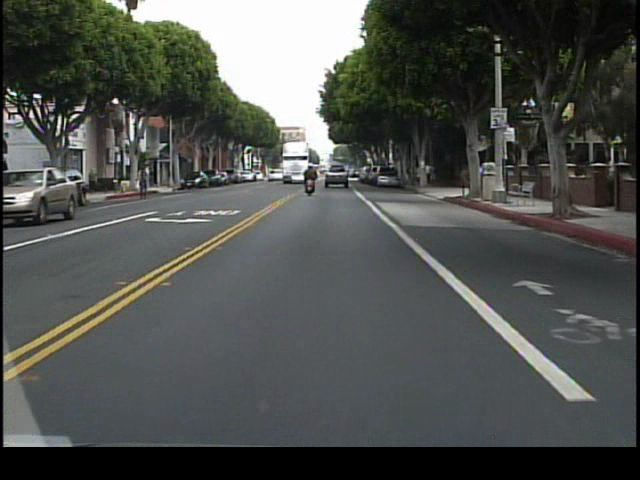person: (304, 161, 322, 202), (136, 163, 155, 198), (430, 160, 439, 187), (426, 162, 431, 185)
